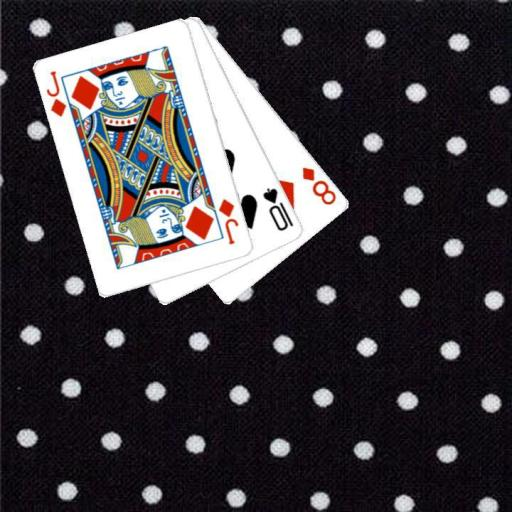10S: (260, 184, 295, 233)
8D: (299, 163, 339, 207)
JD: (44, 68, 69, 119), (216, 196, 241, 246)
